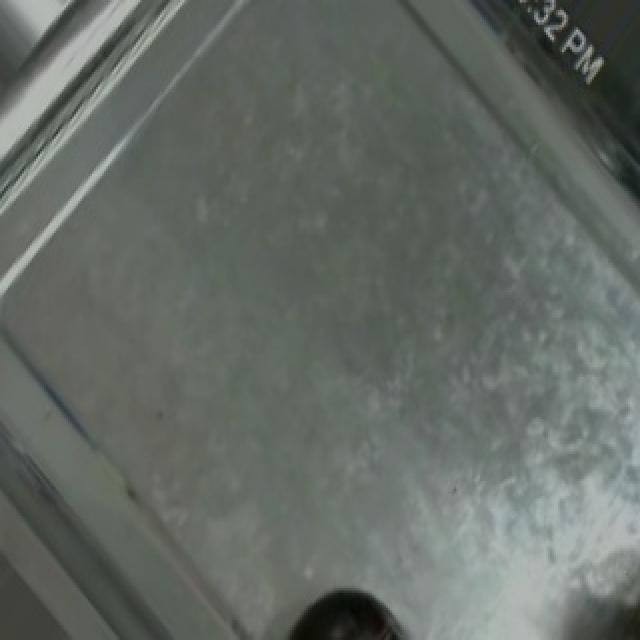Fruit: (270, 568, 414, 640)
